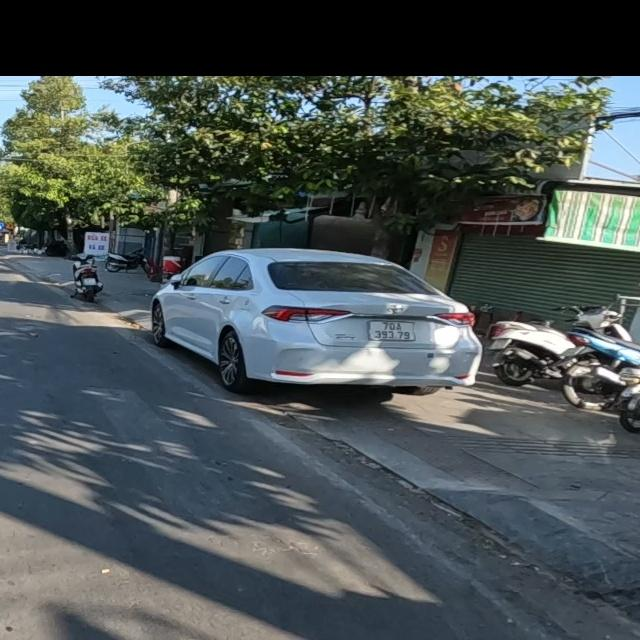license-plate: (367, 320, 416, 341)
